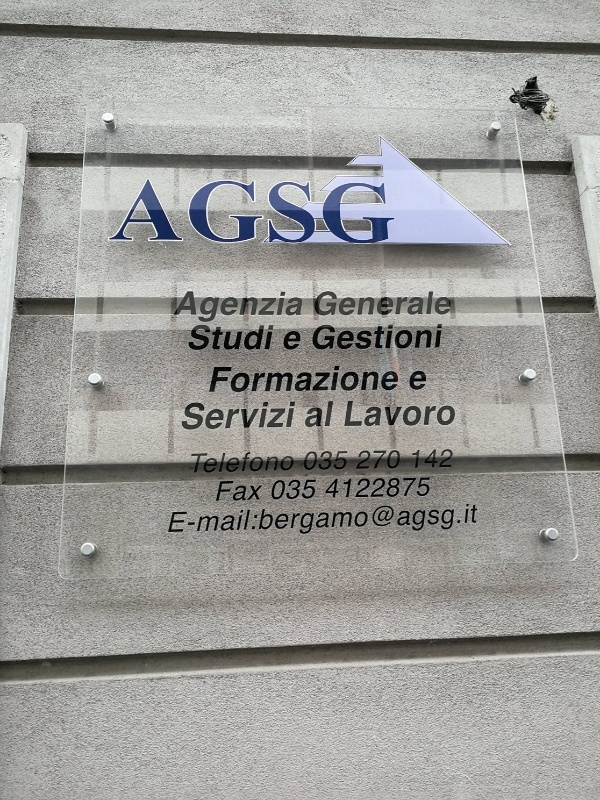text: (161, 132, 176, 252), (177, 132, 192, 252), (193, 132, 208, 252), (209, 132, 224, 252), (225, 132, 240, 252), (241, 132, 256, 252), (257, 132, 272, 252), (273, 132, 288, 252), (289, 132, 304, 252), (305, 132, 320, 252), (321, 132, 336, 252), (337, 132, 352, 252), (353, 132, 368, 252), (369, 132, 384, 252), (385, 132, 400, 252), (401, 132, 416, 252), (417, 132, 432, 252), (433, 132, 448, 252), (449, 132, 464, 252), (465, 132, 480, 252), (481, 132, 496, 252), (497, 132, 512, 252), (149, 132, 160, 252), (513, 132, 523, 252), (289, 290, 305, 325), (193, 290, 208, 325), (209, 290, 224, 325), (225, 290, 240, 325), (241, 290, 256, 325), (257, 290, 272, 325), (273, 290, 288, 325), (177, 502, 192, 536), (193, 502, 208, 536), (209, 502, 224, 536), (225, 502, 240, 536), (241, 502, 256, 536), (257, 502, 272, 536), (273, 502, 288, 536), (289, 502, 304, 536), (305, 502, 320, 536), (321, 502, 336, 536), (337, 502, 352, 536), (353, 502, 368, 536), (369, 502, 384, 536), (385, 502, 400, 536), (401, 502, 416, 536), (417, 502, 432, 536), (433, 502, 448, 536), (449, 502, 464, 536), (465, 502, 480, 536), (193, 400, 208, 432), (209, 400, 224, 432), (225, 400, 240, 432), (241, 400, 256, 432), (257, 400, 272, 432), (273, 400, 288, 432), (225, 364, 240, 395), (241, 364, 256, 395), (257, 364, 272, 395), (273, 364, 288, 395), (289, 364, 304, 395), (305, 364, 320, 395), (321, 364, 336, 395), (337, 364, 352, 395), (353, 364, 368, 395), (369, 364, 384, 395), (321, 323, 336, 352), (337, 323, 352, 352), (353, 323, 368, 352), (369, 323, 384, 352), (385, 323, 400, 352), (401, 323, 416, 352), (417, 323, 432, 352), (353, 401, 368, 430), (369, 401, 384, 430), (385, 401, 400, 430), (401, 401, 416, 430), (417, 401, 432, 430), (433, 401, 448, 430), (385, 364, 399, 395), (321, 399, 335, 430), (321, 290, 336, 318), (337, 290, 352, 318), (353, 290, 368, 318), (369, 290, 384, 318), (385, 290, 400, 318), (401, 290, 416, 318), (417, 290, 432, 318), (433, 290, 448, 318), (193, 324, 208, 352), (209, 324, 224, 352), (225, 324, 240, 352), (241, 324, 256, 352), (257, 324, 272, 352), (273, 476, 288, 502), (289, 476, 304, 502), (225, 479, 240, 504), (241, 479, 256, 504), (193, 451, 208, 475), (209, 451, 224, 475), (225, 451, 240, 475), (241, 451, 256, 475), (257, 451, 272, 475), (273, 451, 288, 475), (337, 475, 352, 499), (353, 475, 368, 499), (369, 475, 384, 499), (385, 475, 400, 499), (401, 475, 416, 499), (417, 475, 432, 499), (213, 364, 224, 395), (309, 399, 320, 430), (305, 449, 320, 471), (321, 449, 336, 471), (369, 449, 384, 471), (385, 449, 400, 471), (417, 447, 432, 469), (433, 447, 448, 469), (433, 323, 444, 352), (305, 476, 317, 502), (289, 329, 303, 351), (289, 400, 298, 432), (337, 449, 350, 471), (449, 401, 457, 430), (417, 369, 427, 392), (186, 290, 192, 325), (360, 449, 368, 471), (314, 323, 320, 352), (171, 502, 176, 536), (289, 451, 296, 475), (410, 369, 416, 392), (188, 400, 192, 432), (219, 479, 224, 504), (257, 479, 262, 504), (348, 401, 352, 430), (449, 447, 454, 469), (332, 475, 336, 499), (412, 447, 416, 469), (317, 290, 320, 318), (449, 290, 452, 318), (273, 324, 276, 352), (285, 329, 288, 351), (401, 449, 402, 471)
